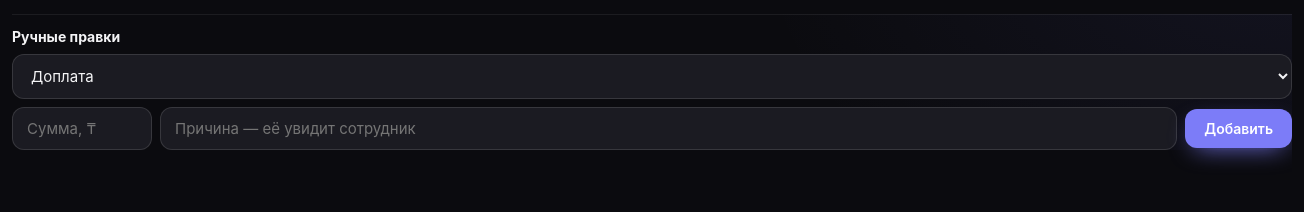
Scenario: ручные правки зарплаты в панели › сумма-мусор не уходит на сервер
The width and height of the screenshot is (1304, 212).
Type "abc" into the field labelled "Сумма, ₸".
click(82, 128); type("abc")  # box [12, 107, 152, 150]
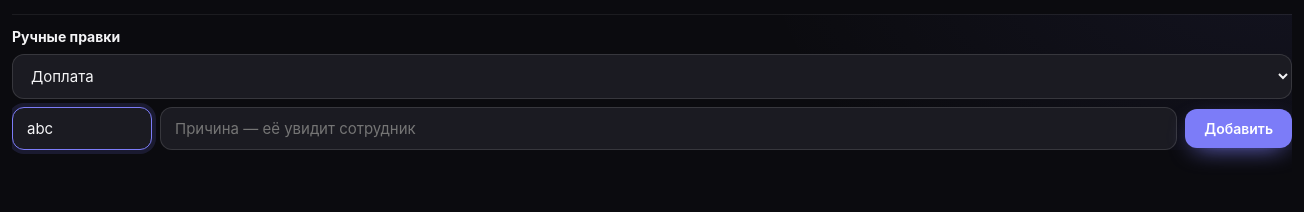
Type "x" into the field labelled "Причина".
click(669, 128); type("x")  # box [160, 107, 1177, 150]
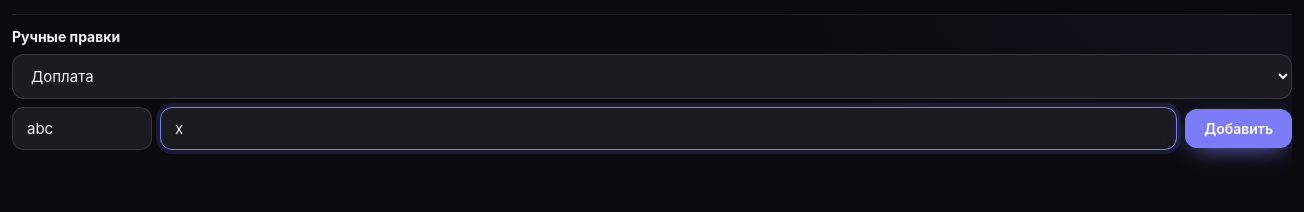
Click the button "Добавить".
click(1239, 128)  # box [1185, 109, 1292, 148]
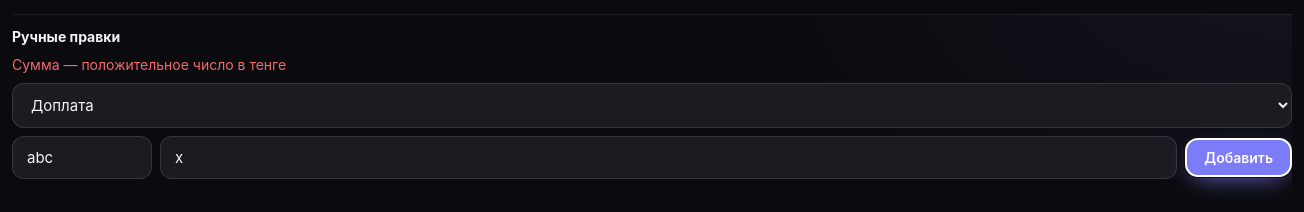
Expected: the text "Сумма — положительное число в тенге" is shown, [12, 56, 286, 73]
